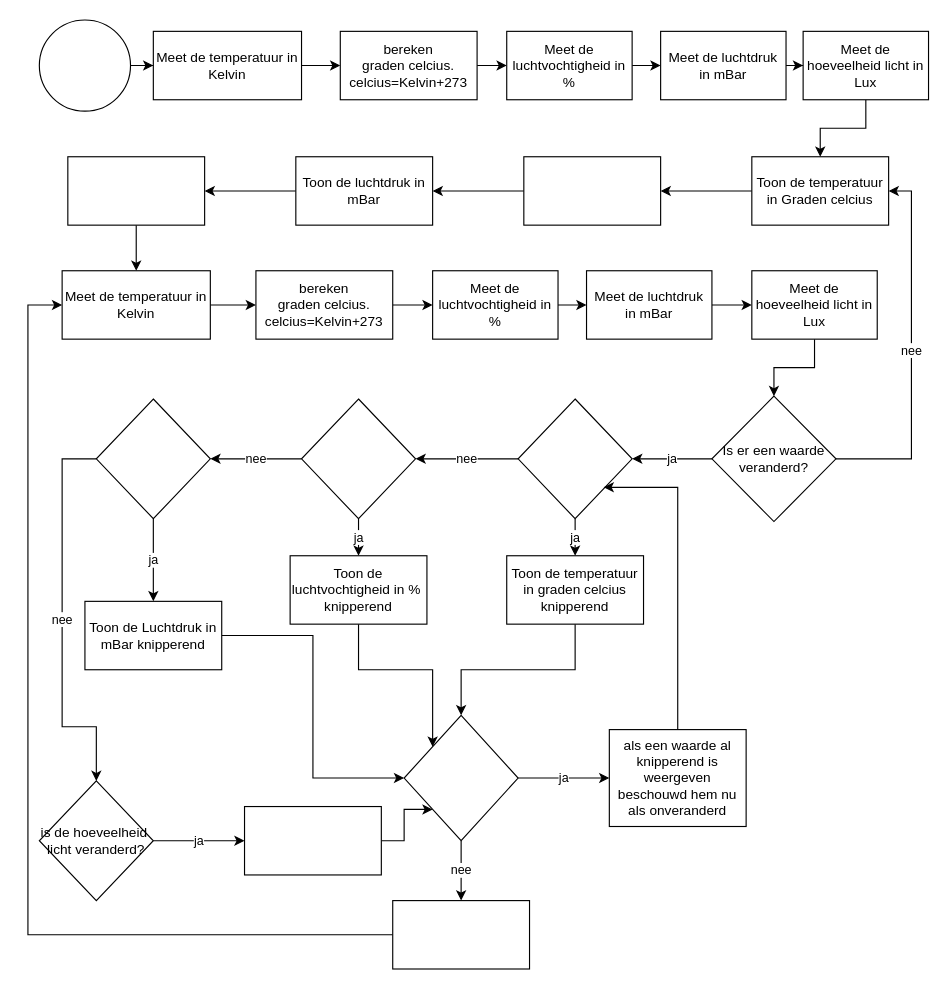
Image size: 948x990. Some labels were removed from this diagram. The centre of each missing label's shape, as x and y in pixels:
is de luchtdruk veranderd?: the point at 152,458
is de luchtvochtigheid veranderd?: the point at 358,458
is de temperatuur veranderd?: the point at 574,458
is er nog een andere waarde veranderd?: the point at 460,777
Start: the point at 84,65
Toon de hoeveelheid licht in Lux: the point at 136,190
Toon de hoeveelheid licht in Lux knipperend: the point at 312,840
Toon de luchtvochtigheid in %: the point at 592,190
wacht 4 minuten: the point at 461,934
